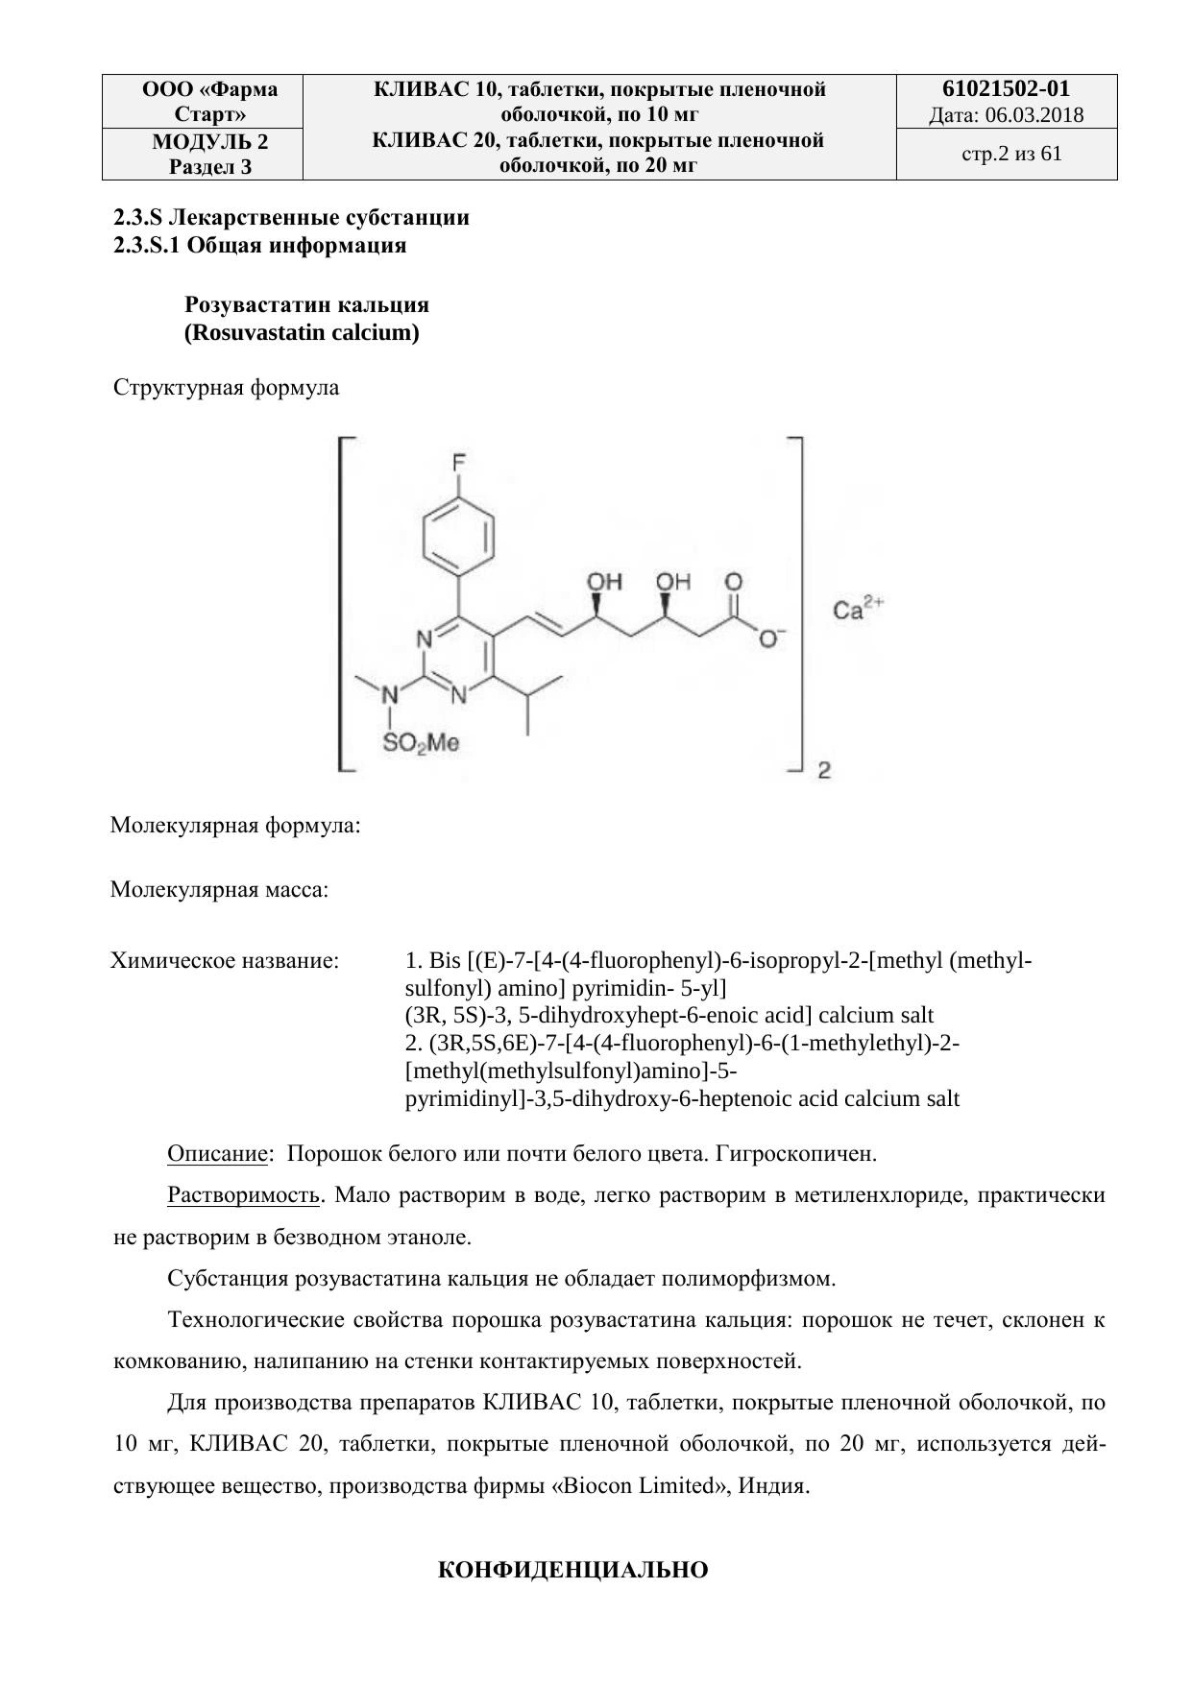merged_cells: (101, 74, 1118, 181)
